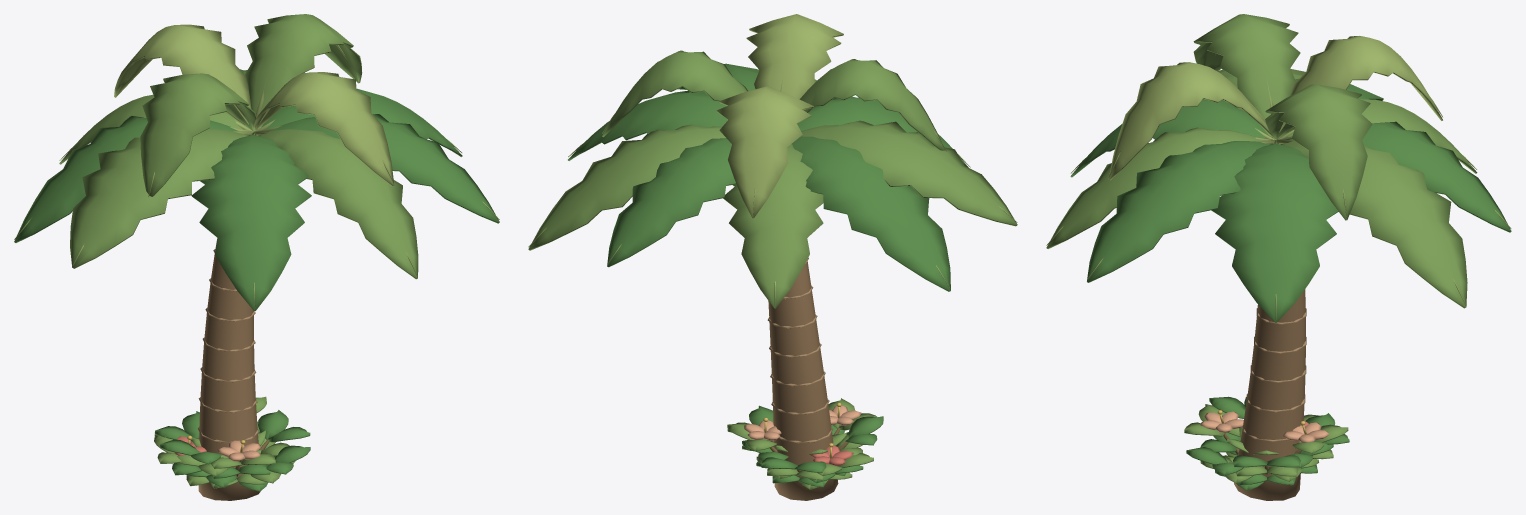
Rendered from approved-plants.glb.
3 views of the same model, side by side, from view 1: azimuth 30°, elevation 25°; view 2: azimuth 150°, elevation 25°; view 3: azimuth 270°, elevation 25° (orthographic). The views are drawn at different scales.
Visible parts, largest first — view 1: Palm, Bush; view 2: Palm, Bush; view 3: Palm, Bush.
Part boxes in pixels (box(x1,y1,x2,y2)): Palm: box(14, 14, 499, 500); Bush: box(154, 396, 310, 491); Palm: box(528, 14, 1017, 500); Bush: box(727, 398, 883, 489); Palm: box(1046, 14, 1511, 500); Bush: box(1184, 396, 1349, 490).
Size of the model in its own units: 4.56 by 4.49 by 4.21.
